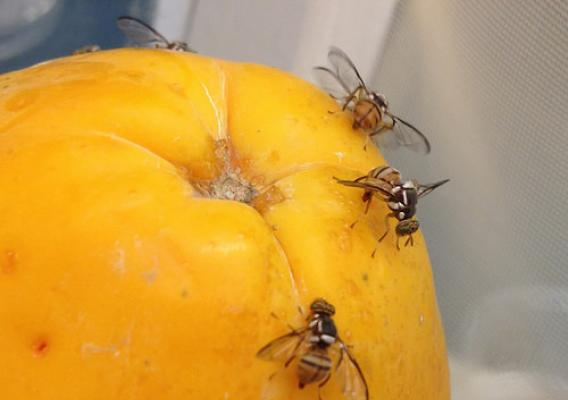Fruit fly: (324, 44, 429, 166), (264, 291, 370, 400), (334, 156, 437, 239)
